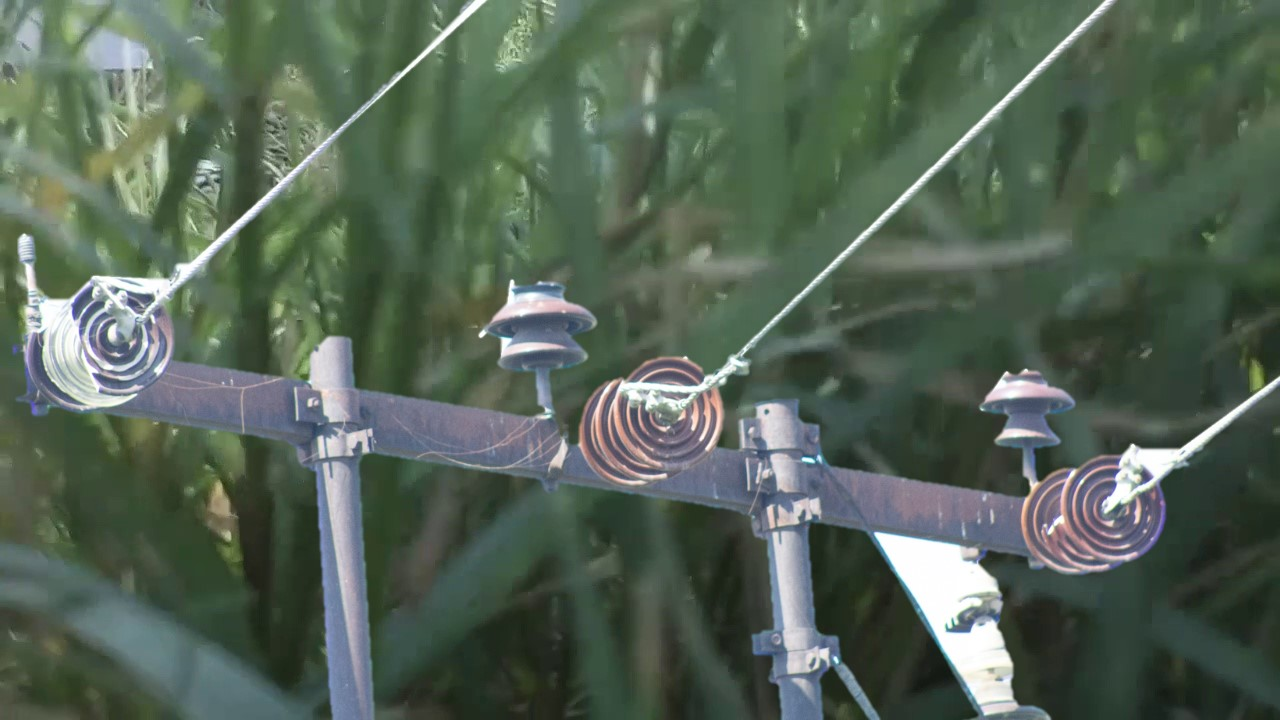defect_disc: (68, 270, 179, 400)
insulator_disc: (611, 351, 731, 474), (1057, 447, 1172, 566)
